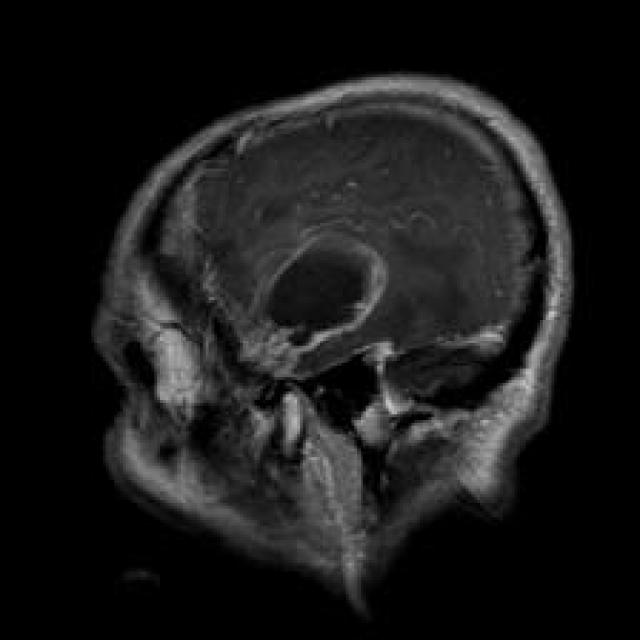glioma_tumor: (257, 216, 397, 376)
